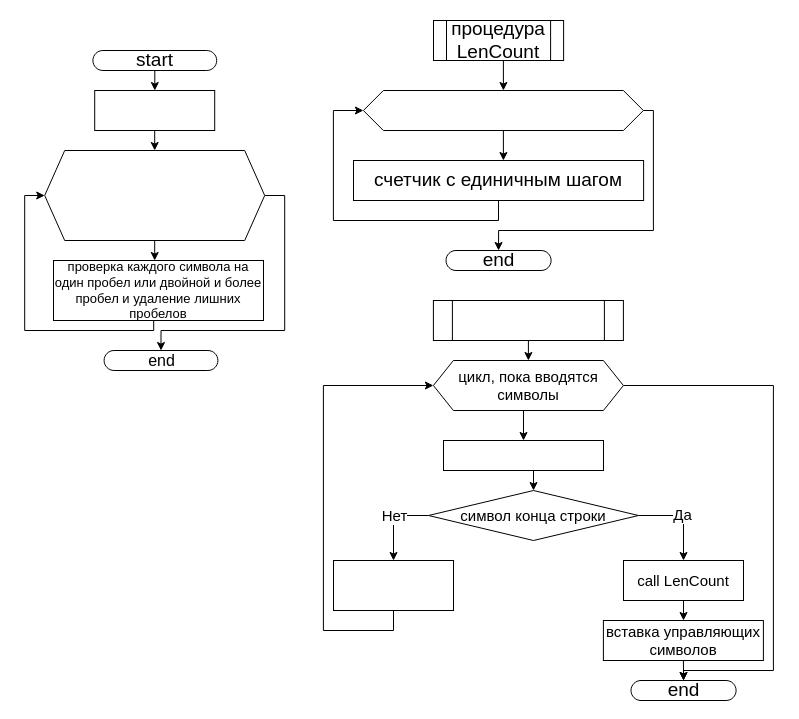
This 799x719 diagram has some shape labels left out. The shapes that lost their labels are listed below. From the top down, each one's centre as x and y in pixels, then its label:
At point (154, 110): "call In_Str".
At point (502, 110): "цикл, пока не будет найден символ конца строки".
At point (154, 195): "последовательный цикл с единичным шагом зависящий от длинны строки".
At point (527, 320): "процедура In_str".
At point (523, 455): "Вызов ввода символа".
At point (393, 585): "запись символа в строку".
